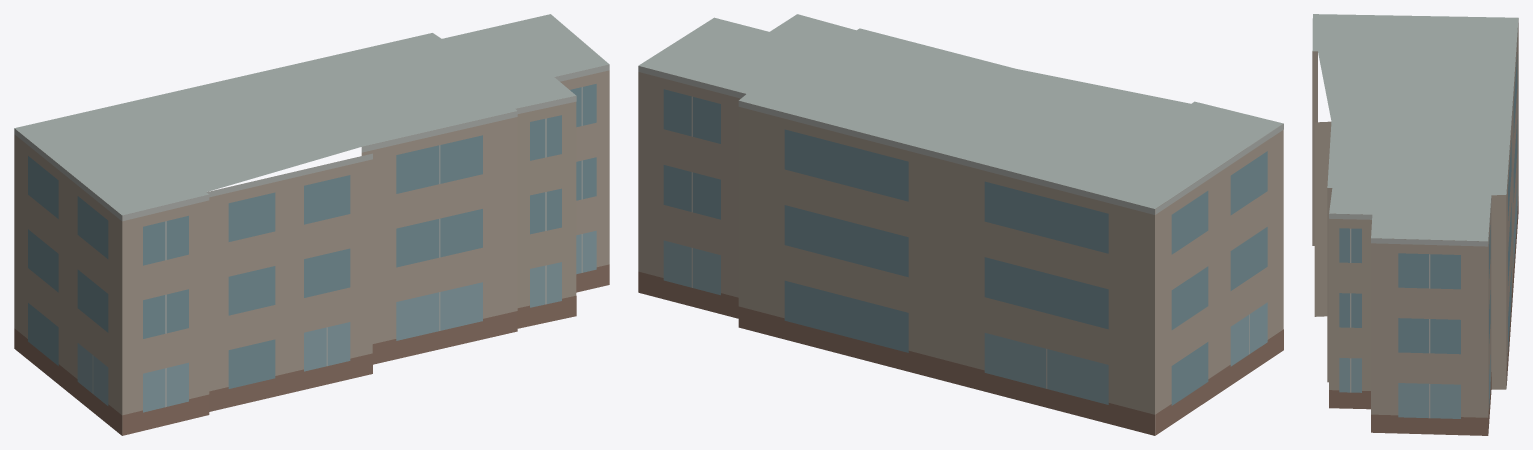
Rendered from survey-upis-32662915.glb.
The picture shows the model from 3 angles, left to right: view 1: azimuth 30°, elevation 25°; view 2: azimuth 150°, elevation 25°; view 3: azimuth 270°, elevation 25°; orthographic projection. The views are drawn at different scales.
Parts seen in each view (by area): view 1: survey-upis-32662915.tmp; view 2: survey-upis-32662915.tmp; view 3: survey-upis-32662915.tmp.
Part boxes in pixels (x1,y1,x2,y2): survey-upis-32662915.tmp: (14,14,609,435); survey-upis-32662915.tmp: (638,14,1283,435); survey-upis-32662915.tmp: (1312,14,1518,435).
Bounding box in the file's own units: 22.95 × 9.15 × 8.79.
